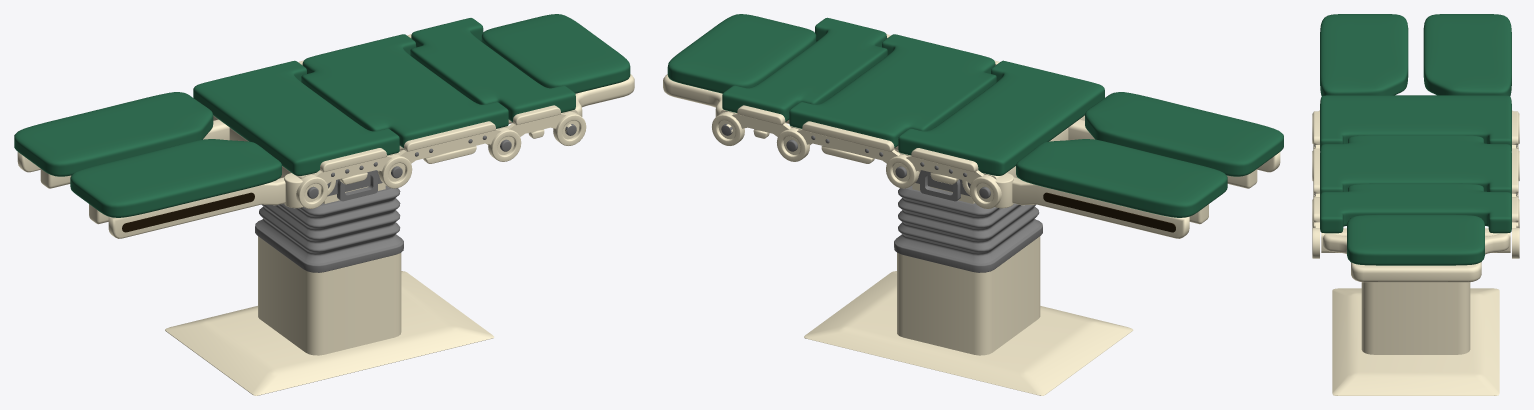
Rendered from surgical table.fbx.
3 renders of one model, left to right at view 1: azimuth 30°, elevation 25°; view 2: azimuth 150°, elevation 25°; view 3: azimuth 270°, elevation 25°, orthographic. The views are drawn at different scales.
Parts seen in each view (by area): view 1: SurgicalTable_01; view 2: SurgicalTable_01; view 3: SurgicalTable_01.
Boxes of the visible parts, <box> form: SurgicalTable_01: <box>14,14,634,395</box>; SurgicalTable_01: <box>663,14,1283,395</box>; SurgicalTable_01: <box>1312,14,1519,395</box>.
Bounding box in the file's own units: 1024 × 416 × 370.
